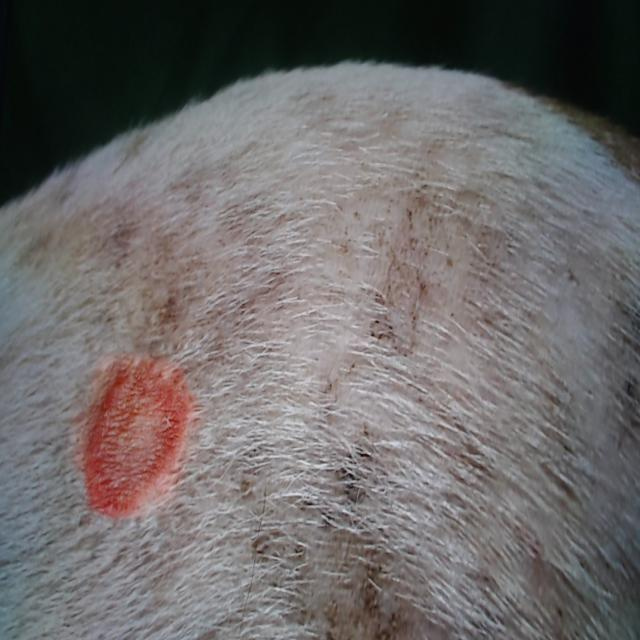ringworm: (66, 307, 198, 527)
